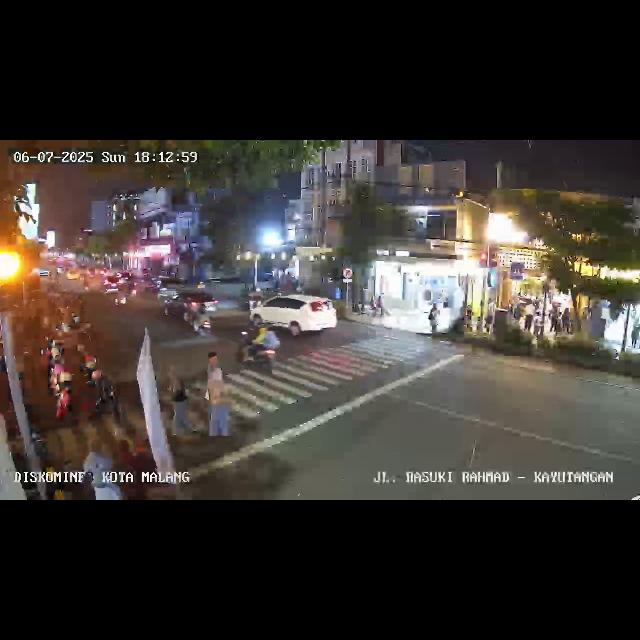car: (251, 293, 337, 339), (163, 290, 219, 320)
motorcycle: (236, 320, 280, 376), (188, 300, 212, 336)
person: (84, 438, 124, 500), (164, 364, 194, 441), (206, 368, 230, 438), (203, 350, 225, 380), (534, 306, 546, 342), (560, 305, 572, 335), (428, 303, 438, 335), (549, 304, 559, 336), (524, 302, 532, 340), (512, 303, 522, 333), (631, 318, 640, 347)
